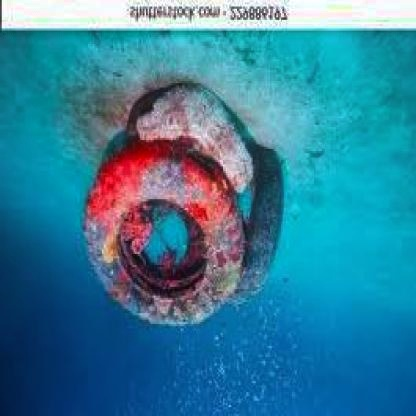tire: (85, 134, 250, 340), (226, 125, 290, 324)
